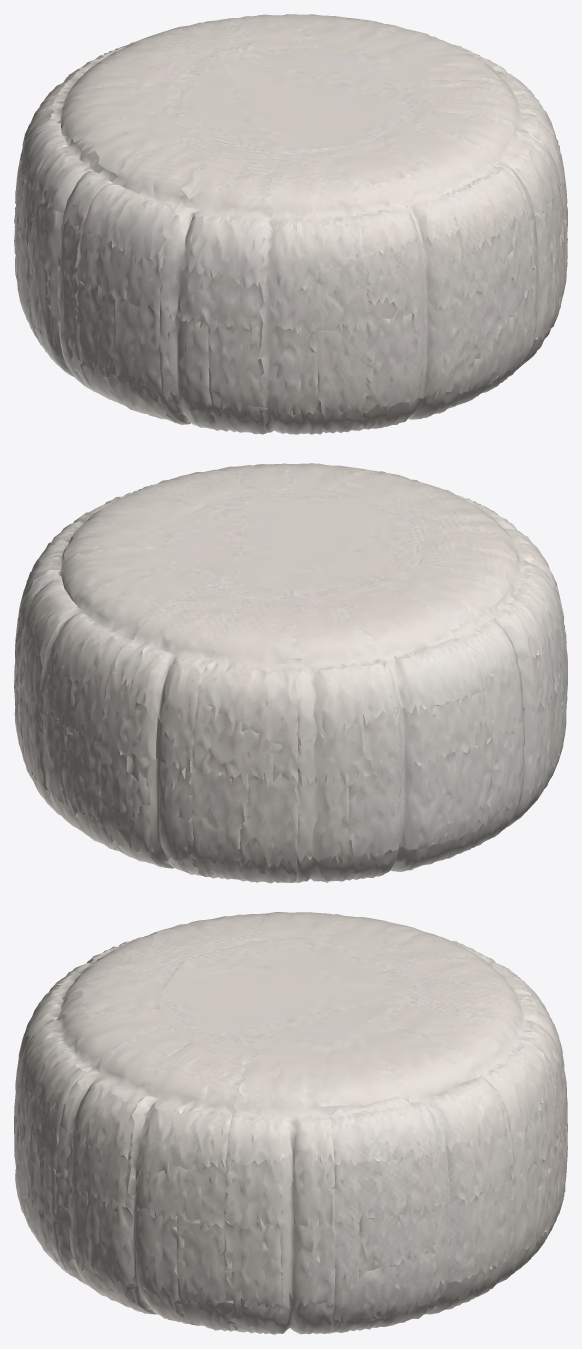
The model's file is ottoman-boucle-cream.glb.
3 renders of one model, top to bottom at view 1: azimuth 30°, elevation 25°; view 2: azimuth 150°, elevation 25°; view 3: azimuth 270°, elevation 25°, orthographic.
Visible parts, largest first — view 1: mesh_node; view 2: mesh_node; view 3: mesh_node.
Part boxes in pixels (x1=…): mesh_node: x1=14, y1=14, x2=567, y2=434; mesh_node: x1=14, y1=463, x2=567, y2=883; mesh_node: x1=14, y1=912, x2=567, y2=1334.
Size of the model in its own units: 1.9 by 0.9412 by 1.9.
1 material, 1 textured.
